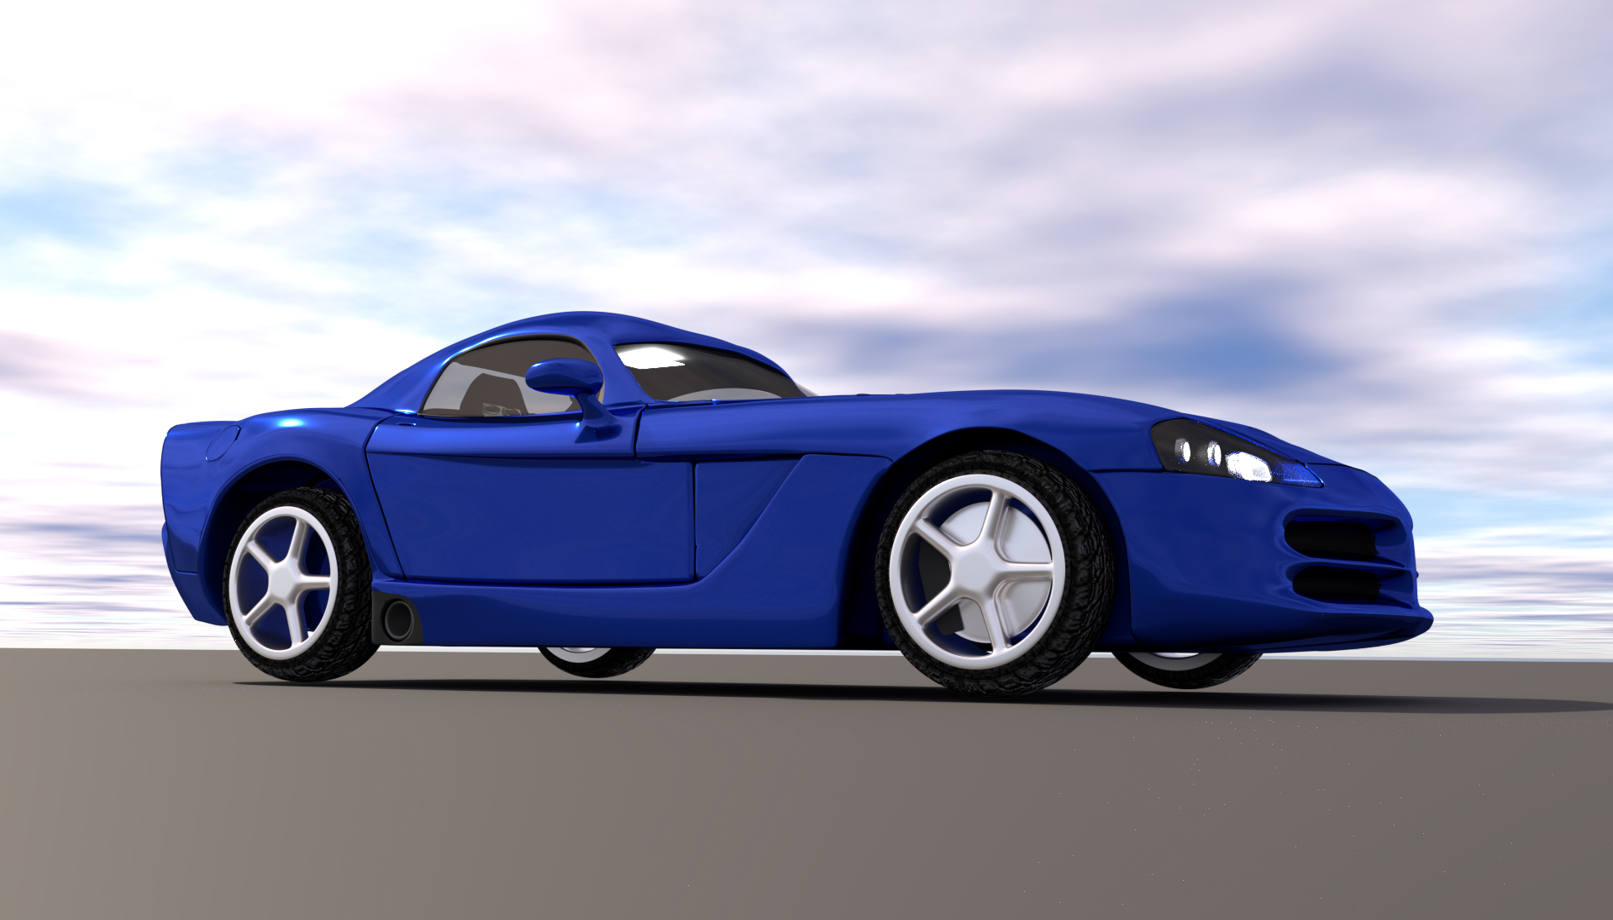hatch: (203, 421, 244, 466)
